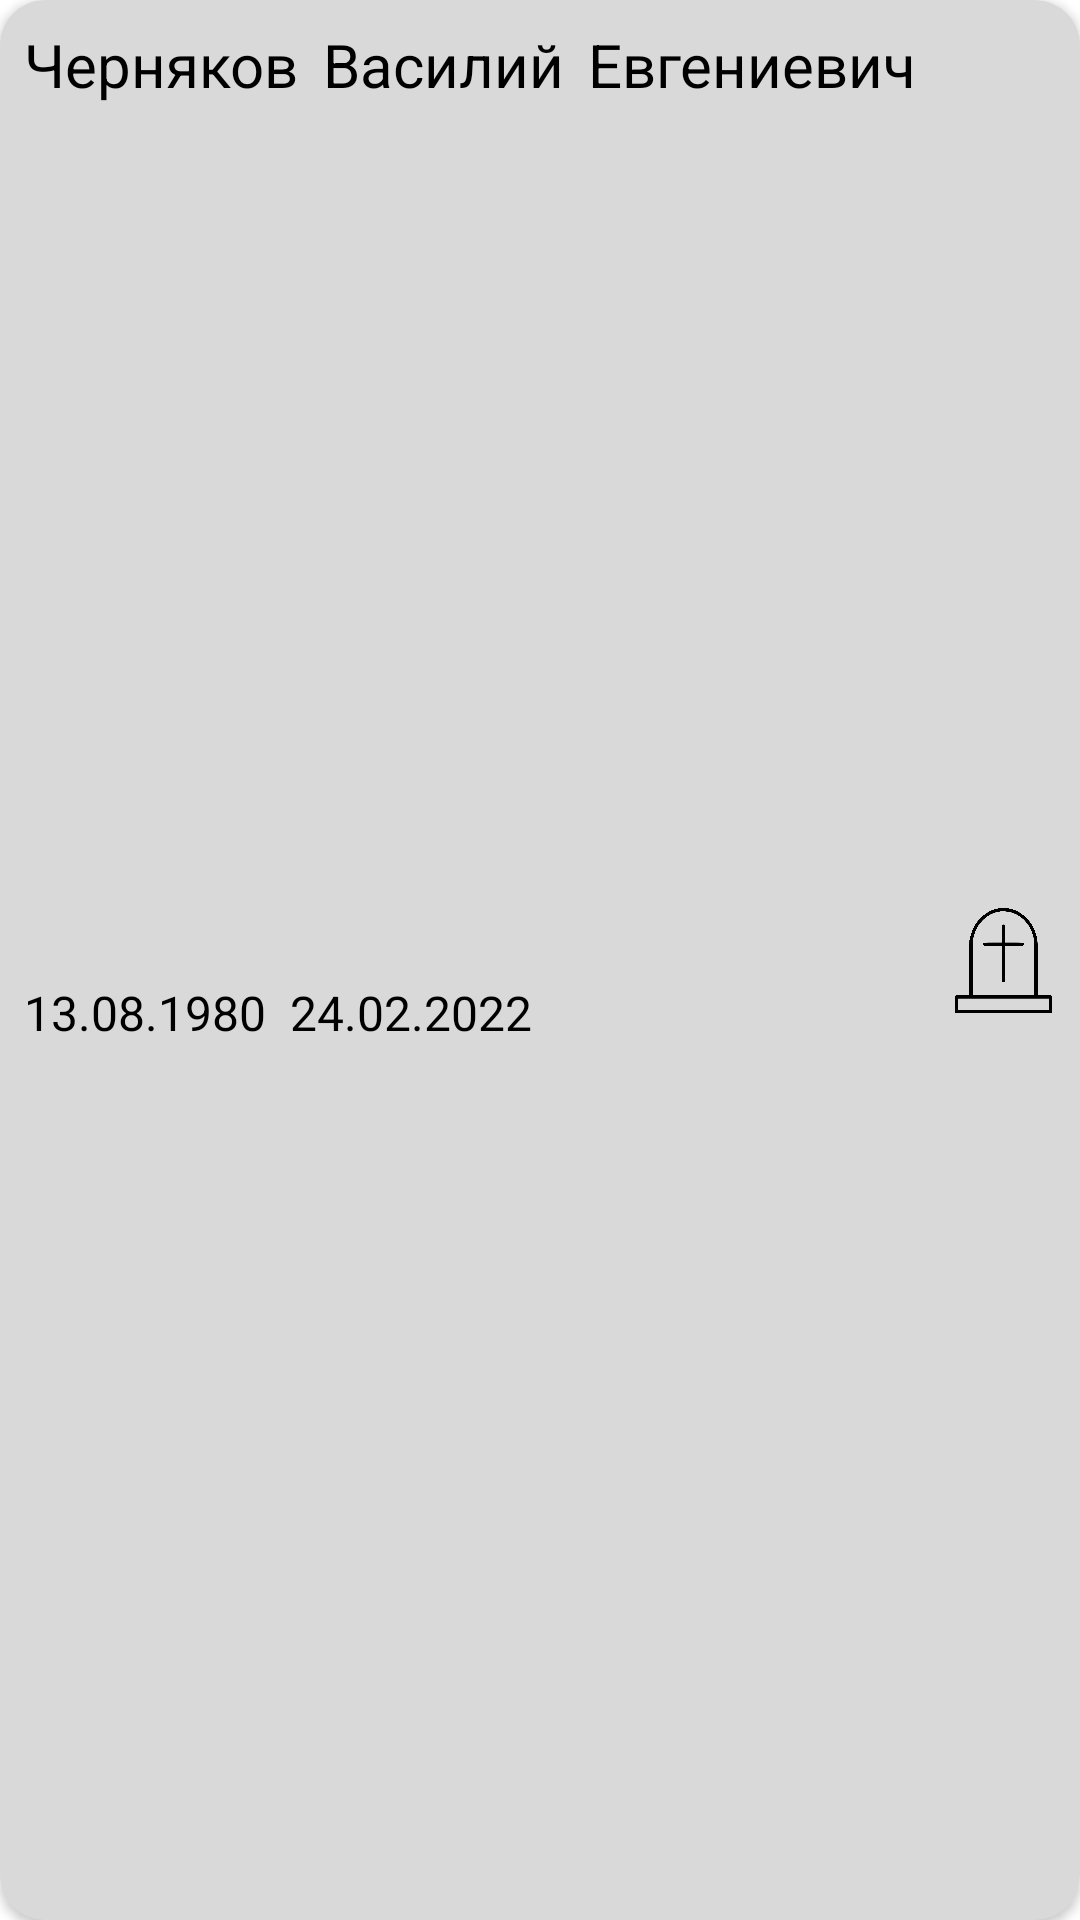

Named icons in this screenshot (1080×1920) and their centers, point (x, y):
death: point (1003, 960)
